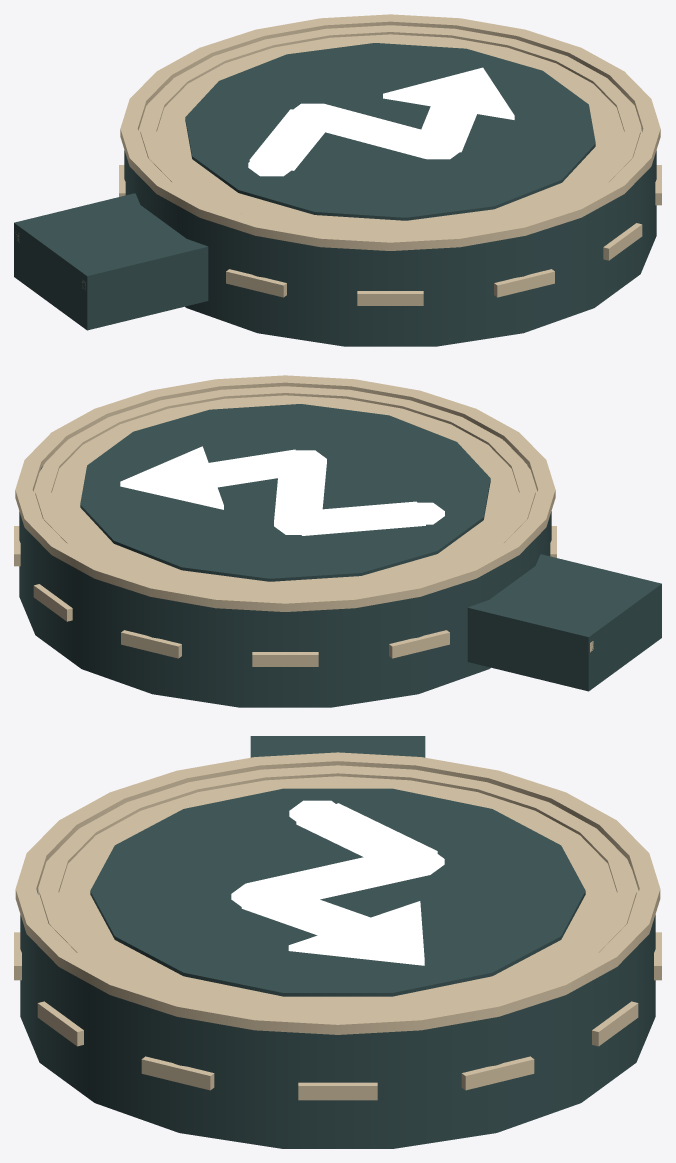
File: Relay_Button_Remote_v2_lab2.glb
3 views of the same model, one above another, from view 1: azimuth 30°, elevation 25°; view 2: azimuth 150°, elevation 25°; view 3: azimuth 270°, elevation 25° (orthographic). The views are drawn at different scales.
Visible parts, largest first — view 1: Relay_Button_Remote_v2, Glyph, Strut; view 2: Relay_Button_Remote_v2, Glyph, Strut; view 3: Relay_Button_Remote_v2, Glyph, Strut.
Boxes of the visible parts, x1,y1,x2,y2 form: Relay_Button_Remote_v2: [119, 14, 661, 346]; Glyph: [185, 43, 595, 220]; Strut: [14, 193, 208, 330]; Relay_Button_Remote_v2: [14, 375, 556, 707]; Glyph: [80, 404, 490, 581]; Strut: [467, 554, 661, 691]; Relay_Button_Remote_v2: [14, 752, 661, 1148]; Glyph: [90, 788, 585, 996]; Strut: [250, 736, 425, 757].
Size of the model in its own units: 4.99 by 1.61 by 4.08.
